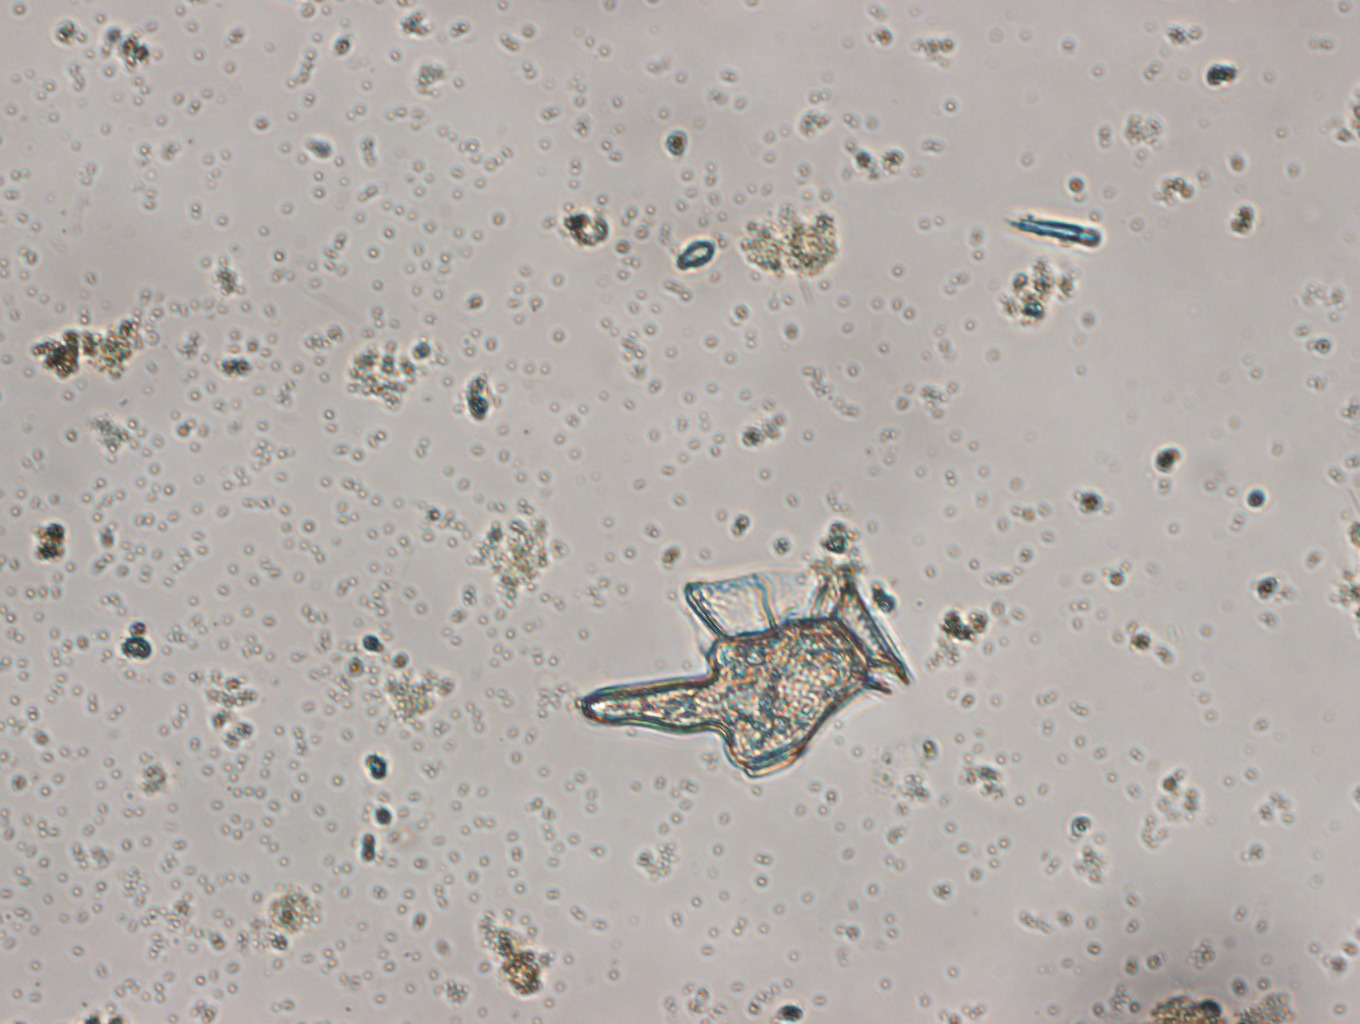dinophysis caudata: (579, 570, 911, 779)
